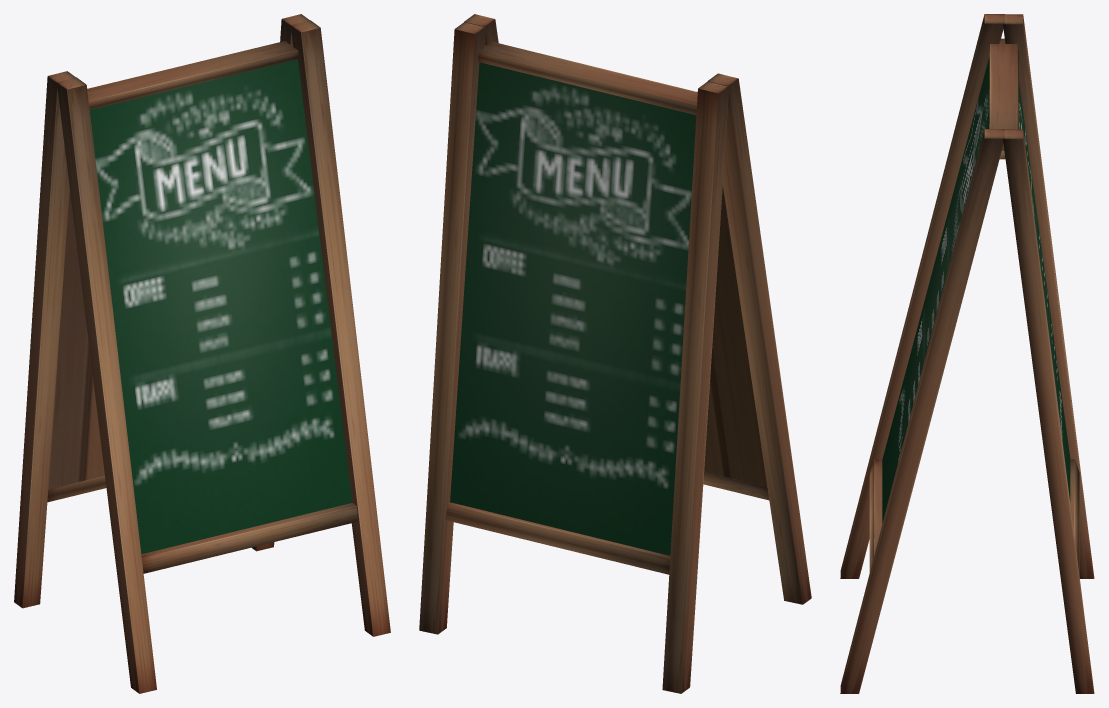
The model's file is CBS_cafe_MenuSign.FBX.
The picture shows the model from 3 angles, left to right: view 1: azimuth 30°, elevation 25°; view 2: azimuth 150°, elevation 25°; view 3: azimuth 270°, elevation 25°; orthographic projection. The views are drawn at different scales.
Parts seen in each view (by area): view 1: CBS_cafe_MenuSign; view 2: CBS_cafe_MenuSign; view 3: CBS_cafe_MenuSign.
Part boxes in pixels (<box>): CBS_cafe_MenuSign: <box>14,14,390,693</box>; CBS_cafe_MenuSign: <box>419,14,811,693</box>; CBS_cafe_MenuSign: <box>840,14,1094,693</box>.
Size of the model in its own units: 49.66 by 103 by 42.76.
